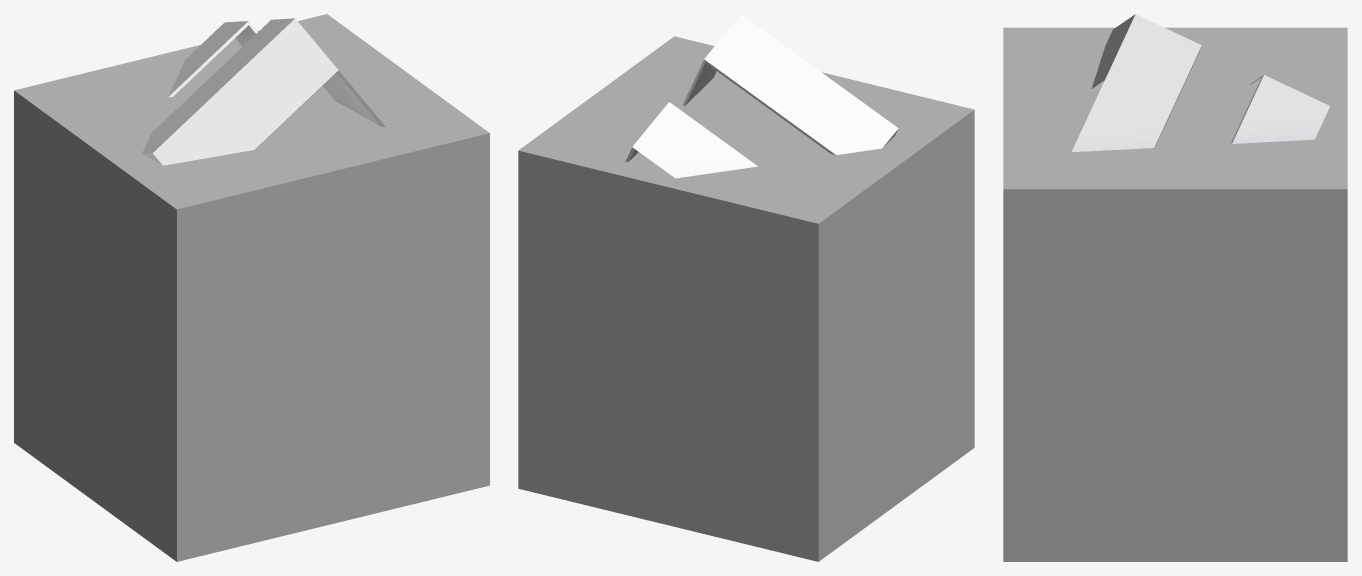
3 renders of one model, left to right at view 1: azimuth 30°, elevation 25°; view 2: azimuth 150°, elevation 25°; view 3: azimuth 270°, elevation 25°, orthographic. The views are drawn at different scales.
Visible parts, largest first — view 1: box1, xy_10301; view 2: box1, xy_10301; view 3: box1, xy_10301.
Boxes of the visible parts, <box> form: box1: <box>14,14,489,561</box>; xy_10301: <box>142,18,385,165</box>; box1: <box>518,36,974,561</box>; xy_10301: <box>625,14,898,178</box>; box1: <box>1003,27,1347,561</box>; xy_10301: <box>1071,14,1329,152</box>.
Bounding box in the file's own units: 0.2375 × 0.3288 × 0.2138.
2 materials, 1 textured.
